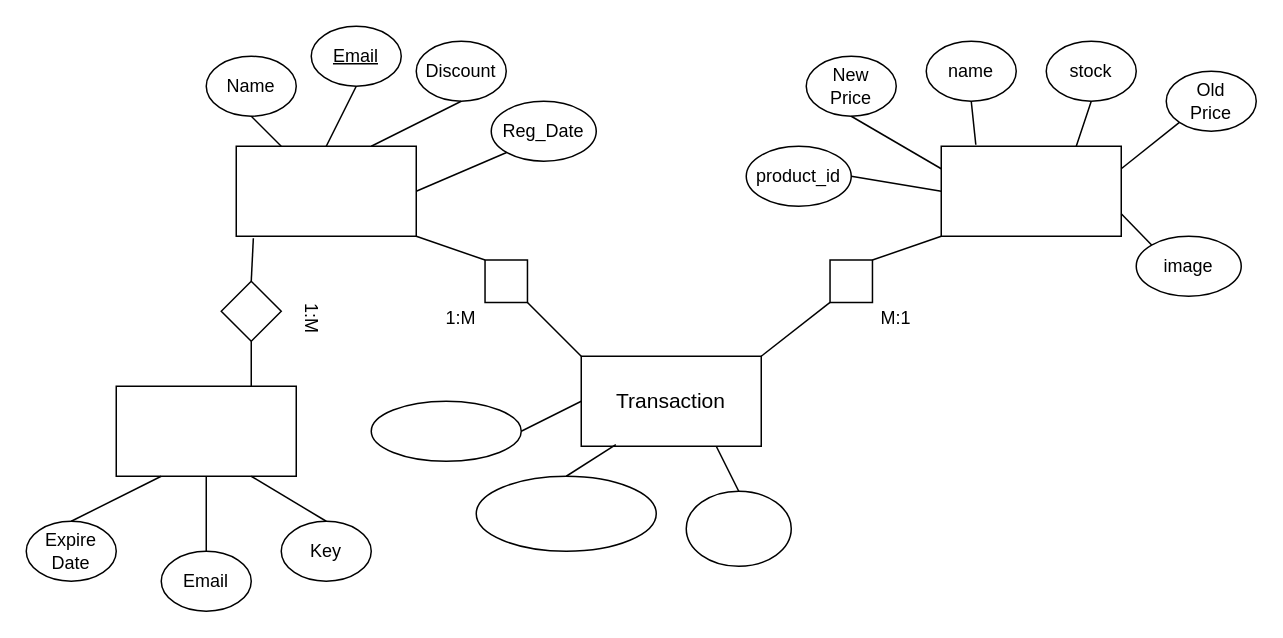
Image size: 1283x638. Some labels were removed from this diagram. The centre of each missing label's shape, as x and y in pixels:
"Products" goes at (x=1030, y=190).
"quantity" goes at (x=738, y=528).
"Rest Password" goes at (x=205, y=430).
"transaction_date" goes at (x=565, y=513).
"transaction_id" goes at (x=445, y=430).
"Users" goes at (x=325, y=190).
